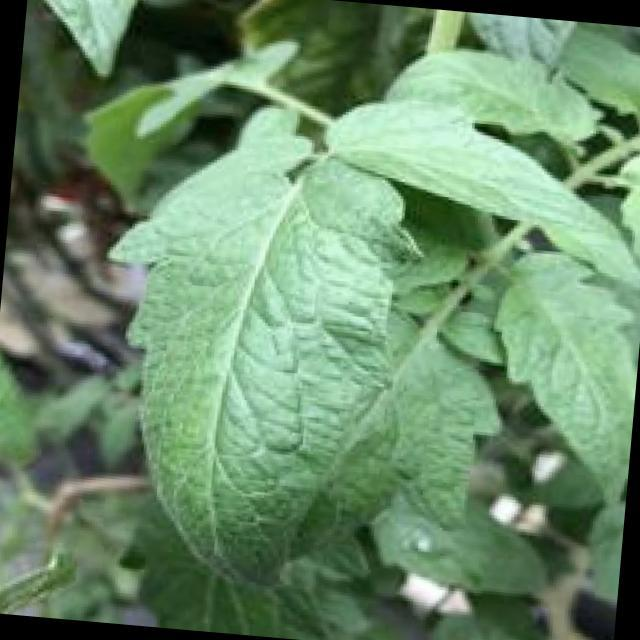Tomato healthy leaf: (80, 116, 430, 600), (310, 91, 640, 289), (477, 248, 640, 518)
